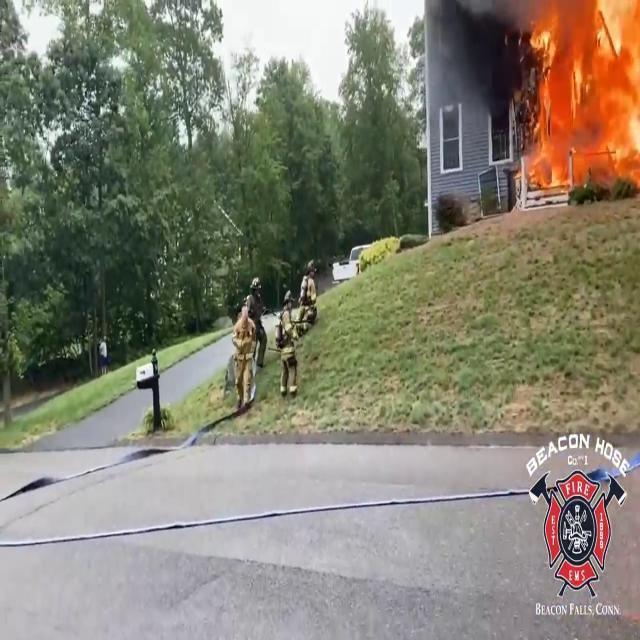Fire: (519, 0, 640, 194)
Smoke: (429, 0, 516, 101)
